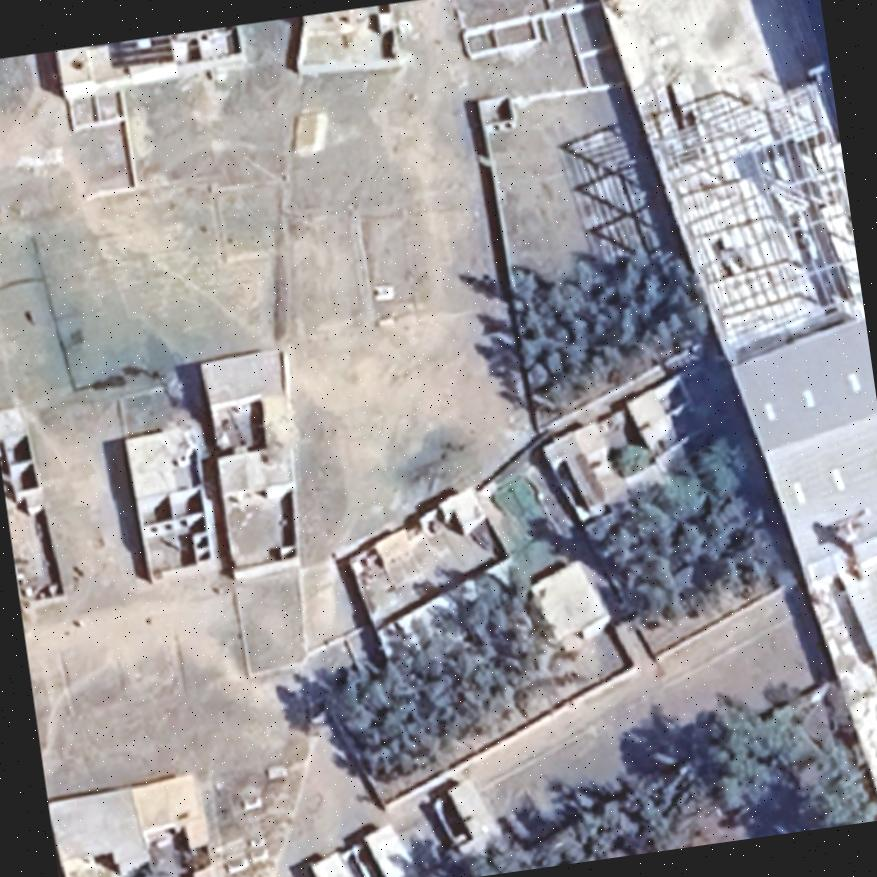Solarpanel: (100, 34, 176, 74)
